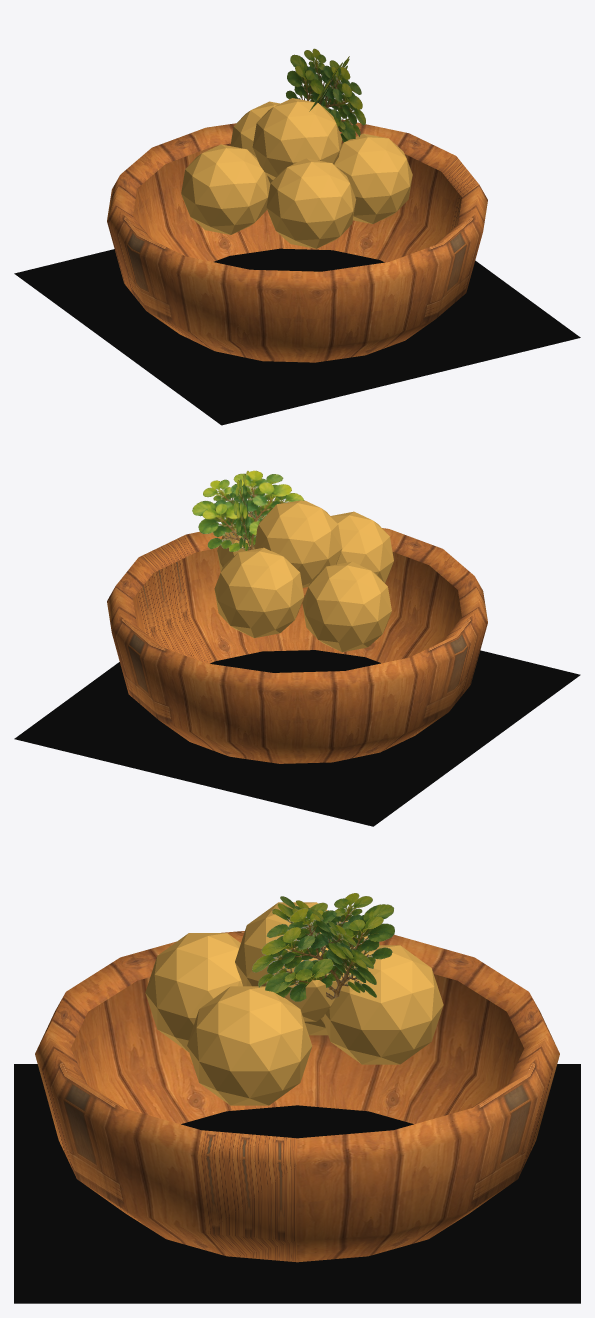
The model's file is fruit-basket.glb.
The picture shows the model from 3 angles, top to bottom: view 1: azimuth 30°, elevation 25°; view 2: azimuth 150°, elevation 25°; view 3: azimuth 270°, elevation 25°; orthographic projection. The views are drawn at different scales.
Parts seen in each view (by area): view 1: basket, ContactShadow, fruit.004, fruit.001, fruit, fruit.002, leafcard, fruit.003; view 2: basket, ContactShadow, fruit.001, fruit.003, fruit, leafcard.001, fruit.004, leafcard; view 3: basket, ContactShadow, fruit.002, fruit.003, leafcard, fruit.004, fruit, leafcard.001.
Part boxes in pixels (x1,y1,x2,y2): basket: [107, 119, 487, 362]; ContactShadow: [14, 248, 580, 425]; fruit.004: [266, 158, 356, 248]; fruit.001: [181, 144, 270, 234]; fruit: [252, 98, 342, 179]; fruit.002: [334, 133, 412, 223]; leafcard: [286, 48, 365, 142]; fruit.003: [230, 101, 279, 183]; basket: [107, 528, 487, 763]; ContactShadow: [14, 650, 580, 826]; fruit.001: [302, 561, 391, 652]; fruit.003: [214, 547, 303, 637]; fruit: [253, 500, 342, 587]; leafcard.001: [192, 470, 304, 551]; fruit.004: [331, 511, 393, 582]; leafcard: [233, 471, 262, 550]; basket: [35, 931, 559, 1262]; ContactShadow: [14, 1064, 580, 1303]; fruit.002: [187, 986, 312, 1105]; fruit.003: [322, 945, 443, 1064]; leafcard: [252, 893, 394, 1001]; fruit.004: [145, 933, 242, 1052]; fruit: [235, 902, 354, 1021]; leafcard.001: [272, 896, 376, 997].
Bounding box in the file's own units: 0.95 × 0.6731 × 0.95.
4 materials, 3 textured.
